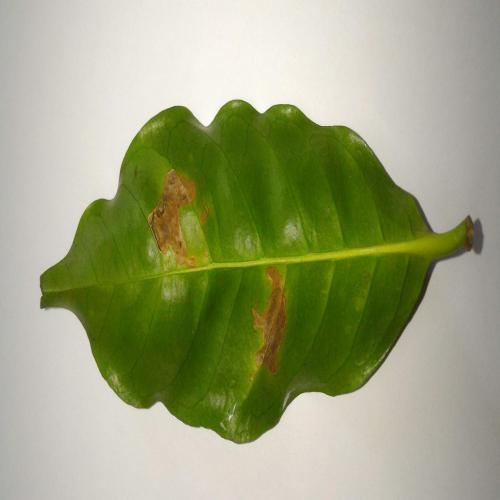leaf: (148, 169, 197, 267)
